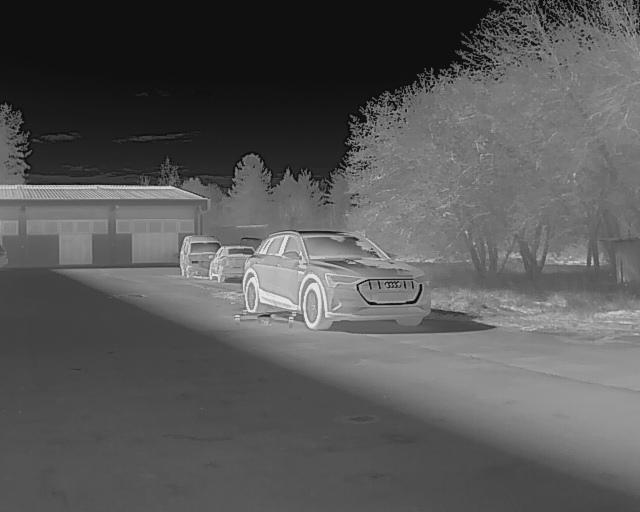drone: (230, 288, 312, 343)
